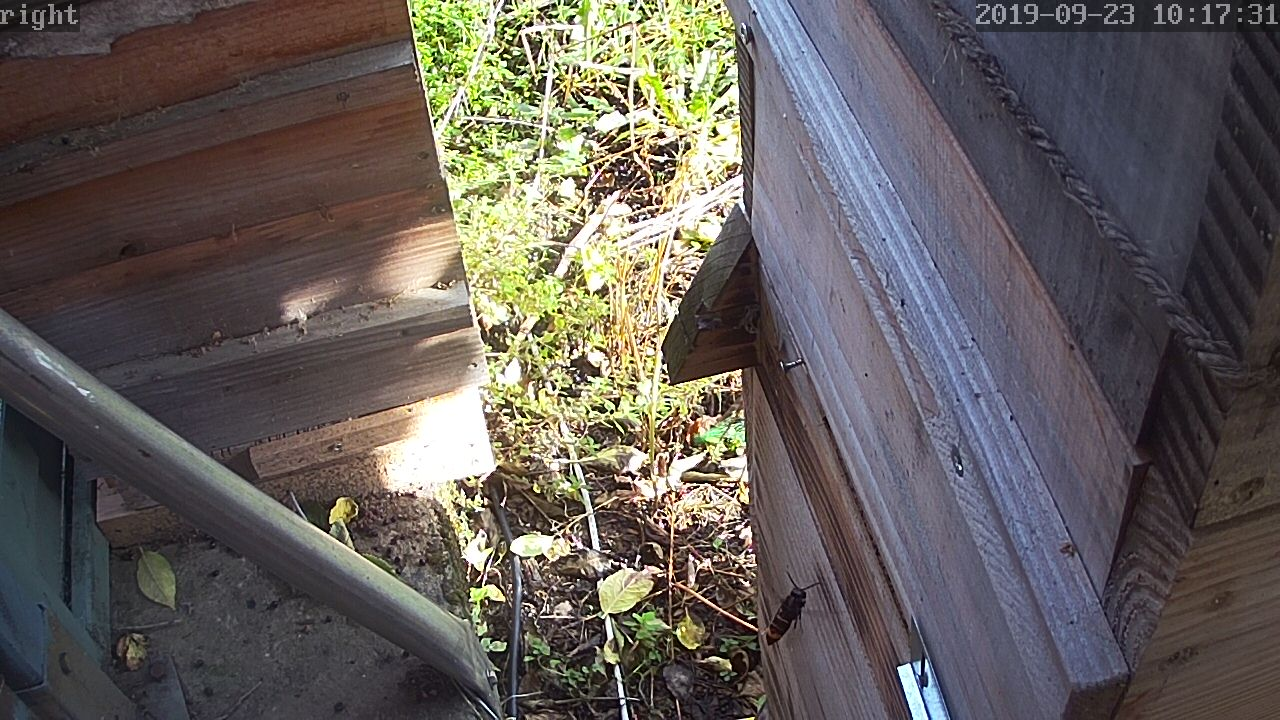hornet: (753, 575, 802, 655)
